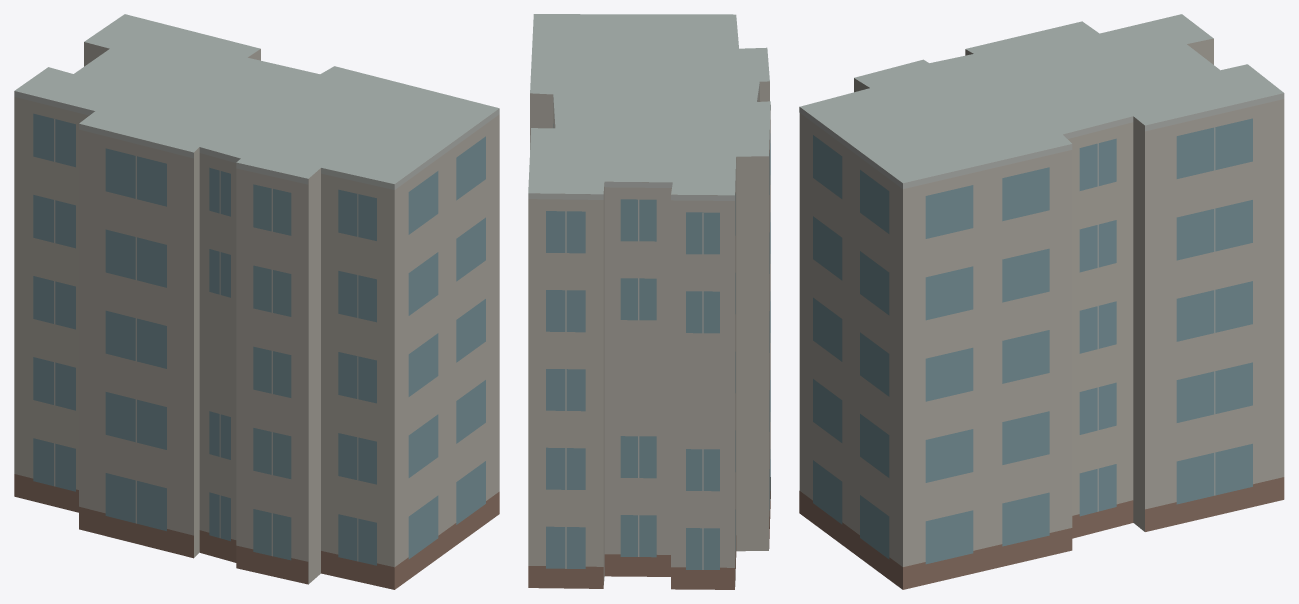
The model's file is survey-upis-32574512.glb.
3 views of the same model, side by side, from view 1: azimuth 30°, elevation 25°; view 2: azimuth 150°, elevation 25°; view 3: azimuth 270°, elevation 25° (orthographic). The views are drawn at different scales.
Visible parts, largest first — view 1: survey-upis-32574512.tmp; view 2: survey-upis-32574512.tmp; view 3: survey-upis-32574512.tmp.
Boxes of the visible parts, x1=… form: survey-upis-32574512.tmp: x1=14, y1=14, x2=499, y2=589; survey-upis-32574512.tmp: x1=528, y1=14, x2=770, y2=589; survey-upis-32574512.tmp: x1=799, y1=14, x2=1284, y2=589.
Bounding box in the file's own units: 15.01 × 16.8 × 18.16.
